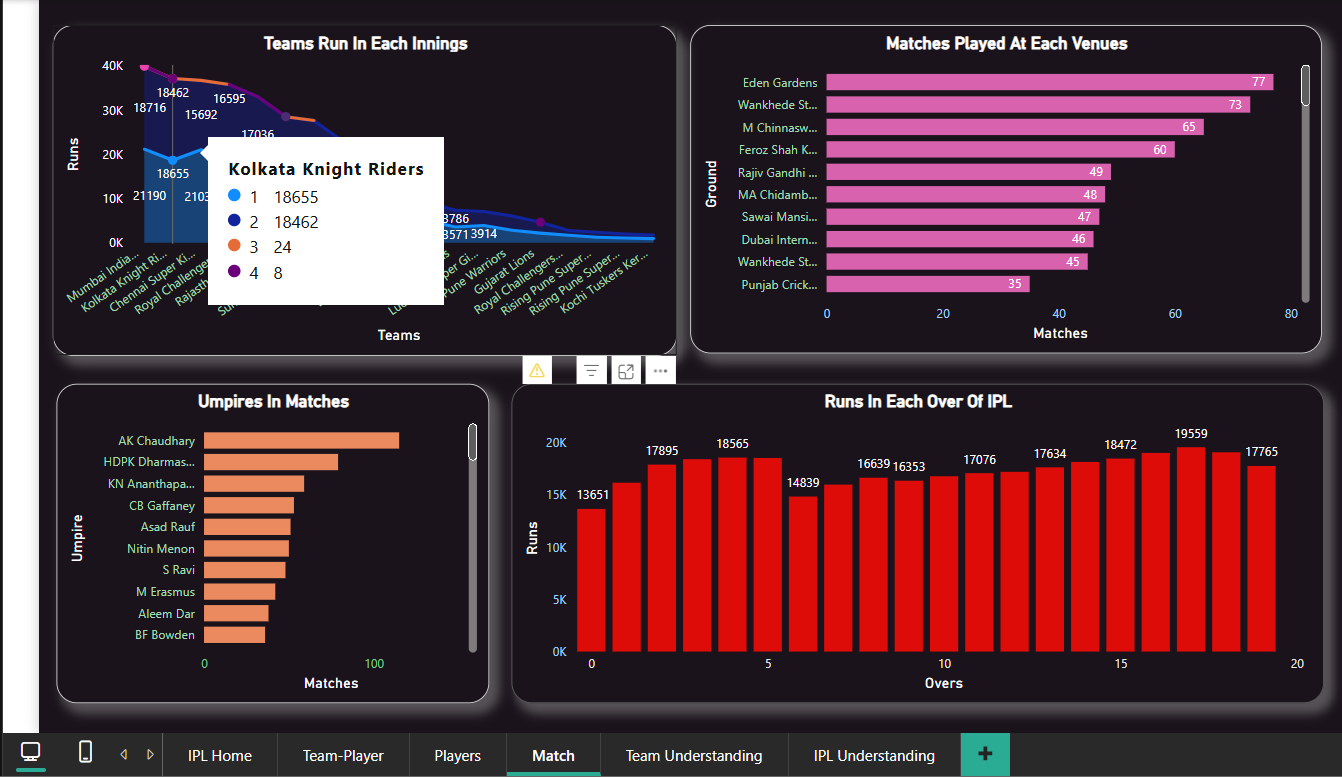

The page's visual inventory and layout, read from the dashboard file:
{"tool":"powerbi","page":{"name":"Match","canvas":[1280,720],"ordinal":3},"visuals":[{"type":"columnChart","title":"Runs In Each Over Of IPL","fields":{"Category":["deliveries.over"],"Y":["deliveries.total_runs"]},"box":[463.3,376.4,797.5,313.7],"z":0},{"type":"barChart","title":"Matches Played At Each Venues","fields":{"Category":["matches.venue"],"Y":["matches.match_type"]},"box":[639.5,24.7,620.2,322.5],"z":1000},{"type":"barChart","title":"Umpires In Matches","fields":{"Category":["matches.umpire1"],"Y":["matches.umpire1"]},"box":[16.9,376.4,424.7,313.7],"z":2000},{"type":"stackedAreaChart","title":"Teams Run In Each Innings","fields":{"Category":["deliveries.batting_team"],"Y":["deliveries.batsman_runs"],"Series":["deliveries.inning"]},"box":[13.3,24.1,612.9,324.5],"z":3000}]}

Visuals, with their boxes on the page's 1280x720 design canvas (x1, y1, x2, y2). These are canvas units, not pixel positions in the 1342x777 screenshot, which may show the page scaled, cropped or inside an application window:
"Runs In Each Over Of IPL" columnChart: locate(463, 376, 1261, 690)
"Matches Played At Each Venues" barChart: locate(640, 25, 1260, 347)
"Umpires In Matches" barChart: locate(17, 376, 442, 690)
"Teams Run In Each Innings" stackedAreaChart: locate(13, 24, 626, 349)
